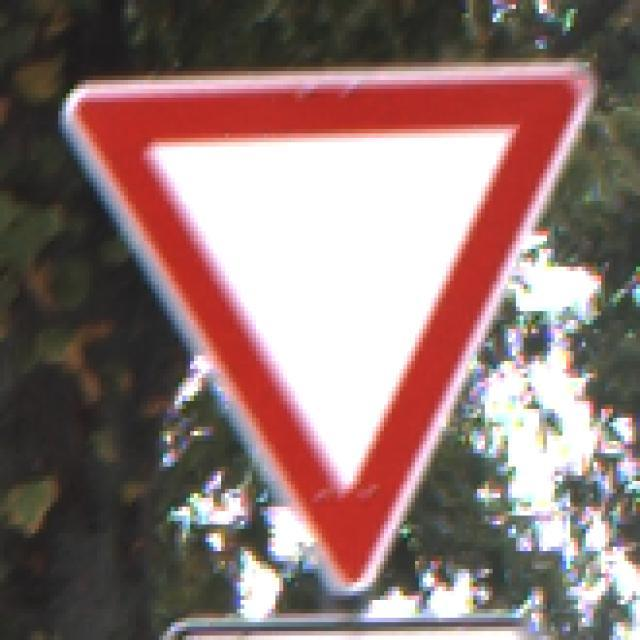give way: (60, 72, 597, 602)
